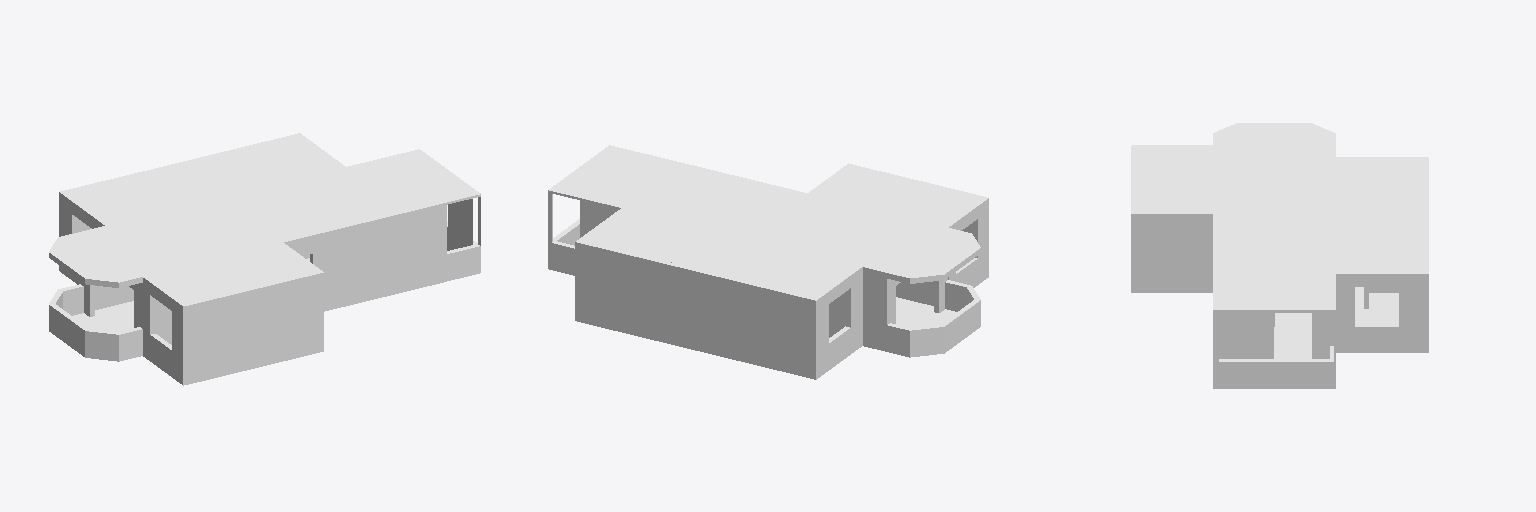
File: render.obj
The picture shows the model from 3 angles: view 1: azimuth 30°, elevation 25°; view 2: azimuth 150°, elevation 25°; view 3: azimuth 270°, elevation 25°; orthographic projection.
Visible parts, largest first — view 1: wall_1_5, room_10_272, room_8_268, wall_32_191, room_2_256, room_11_274, room_9_270, wall_26_155, wall_31_185, wall_34_203, room_4_260, room_1_254 (+13 smaller); view 2: wall_37_221, wall_38_227, room_10_272, room_8_268, room_2_256, room_11_274, room_9_270, wall_4_23, room_4_260, room_1_254, wall_5_29, wall_34_203 (+12 smaller); view 3: room_10_272, wall_2_11, wall_3_17, room_8_268, room_11_274, room_2_256, wall_16_92, room_9_270, wall_16_95, room_4_260, room_1_254, room_7_266 (+5 smaller).
Boxes of the visible parts, box(x1,y1,x2,y2) form: wall_1_5: box(186, 273, 323, 384); room_10_272: box(90, 201, 274, 272); room_8_268: box(148, 244, 315, 302); wall_32_191: box(390, 203, 446, 295); room_2_256: box(180, 137, 339, 188); room_11_274: box(68, 167, 215, 223); room_9_270: box(225, 183, 348, 240); wall_26_155: box(284, 226, 352, 311); wall_31_185: box(353, 217, 389, 304); wall_34_203: box(141, 278, 185, 385); room_4_260: box(302, 163, 410, 202); room_1_254: box(55, 234, 138, 279); wall_37_221: box(575, 242, 701, 351); wall_38_227: box(702, 273, 815, 379); room_10_272: box(754, 197, 938, 268); room_8_268: box(813, 167, 979, 225); room_2_256: box(584, 210, 728, 269); room_11_274: box(708, 240, 856, 296); room_9_270: box(681, 179, 803, 235); wall_4_23: box(816, 267, 862, 379); room_4_260: box(597, 177, 705, 216); room_1_254: box(890, 230, 973, 275); wall_5_29: box(863, 267, 886, 351); wall_34_203: box(947, 198, 988, 287); room_10_272: box(1216, 146, 1329, 211); wall_2_11: box(1131, 214, 1212, 292); wall_3_17: box(1336, 274, 1428, 352); room_8_268: box(1137, 147, 1215, 210); room_11_274: box(1336, 159, 1422, 211); room_2_256: box(1336, 214, 1422, 271); wall_16_92: box(1213, 310, 1335, 388); room_9_270: box(1216, 212, 1329, 247); wall_16_95: box(1219, 312, 1332, 360); room_4_260: box(1274, 248, 1329, 290); room_1_254: box(1219, 125, 1329, 145); room_7_266: box(1219, 293, 1329, 306).
Size of the model in its own units: 1422 by 280 by 955.